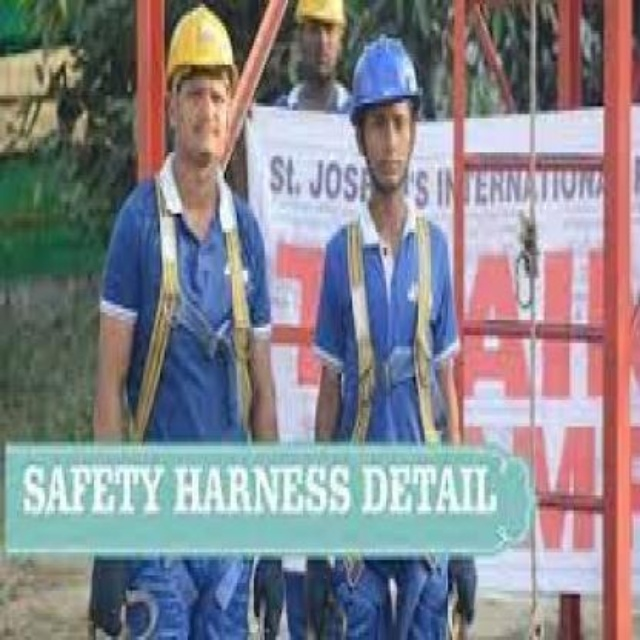Arnes_seguridad: (124, 147, 254, 449), (338, 208, 447, 448)
